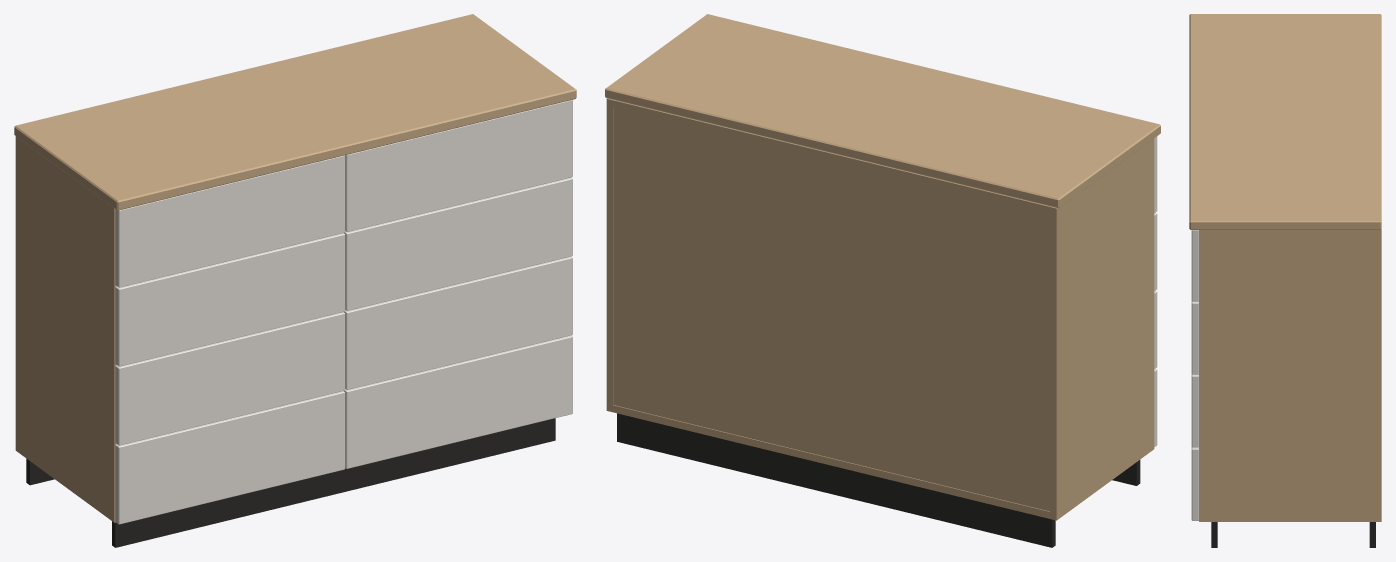
Rendered from 16_komoda_120_2x4.glb.
The picture shows the model from 3 angles, left to right: view 1: azimuth 30°, elevation 25°; view 2: azimuth 150°, elevation 25°; view 3: azimuth 270°, elevation 25°; orthographic projection. The views are drawn at different scales.
Visible parts, largest first — view 1: Wierzch, Korpus, Front_szuflada_2, Front_szuflada_3, Front_szuflada_4, Front_szuflada_8, Front_szuflada_7, Front_szuflada_6, Front_szuflada_1, Front_szuflada_5, Cokol; view 2: Korpus, Wierzch, Cokol; view 3: Korpus, Wierzch, Front_szuflada_6, Front_szuflada_7, Front_szuflada_8, Front_szuflada_5, Cokol.
Part boxes in pixels (x1,y1,x2,y2): Wierzch: [14, 14, 576, 210]; Korpus: [15, 136, 116, 522]; Front_szuflada_2: [115, 233, 345, 366]; Front_szuflada_3: [115, 312, 345, 445]; Front_szuflada_4: [115, 391, 345, 524]; Front_szuflada_8: [344, 335, 572, 468]; Front_szuflada_7: [344, 256, 572, 389]; Front_szuflada_6: [344, 177, 572, 310]; Front_szuflada_1: [115, 155, 345, 287]; Front_szuflada_5: [345, 99, 572, 231]; Cokol: [26, 418, 555, 547]; Korpus: [606, 98, 1154, 520]; Wierzch: [605, 14, 1160, 208]; Cokol: [617, 413, 1140, 547]; Korpus: [1199, 229, 1381, 521]; Wierzch: [1189, 14, 1381, 229]; Front_szuflada_6: [1191, 301, 1198, 374]; Front_szuflada_7: [1191, 374, 1198, 447]; Front_szuflada_8: [1191, 447, 1198, 520]; Front_szuflada_5: [1191, 230, 1198, 301]; Cokol: [1211, 522, 1375, 547].
Bounding box in the file's own units: 1.21 × 0.9 × 0.474.
